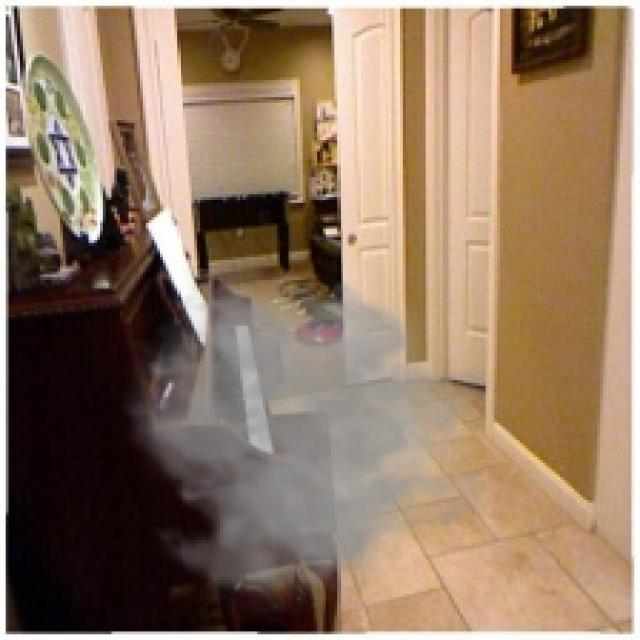smoke: (117, 268, 494, 626)
